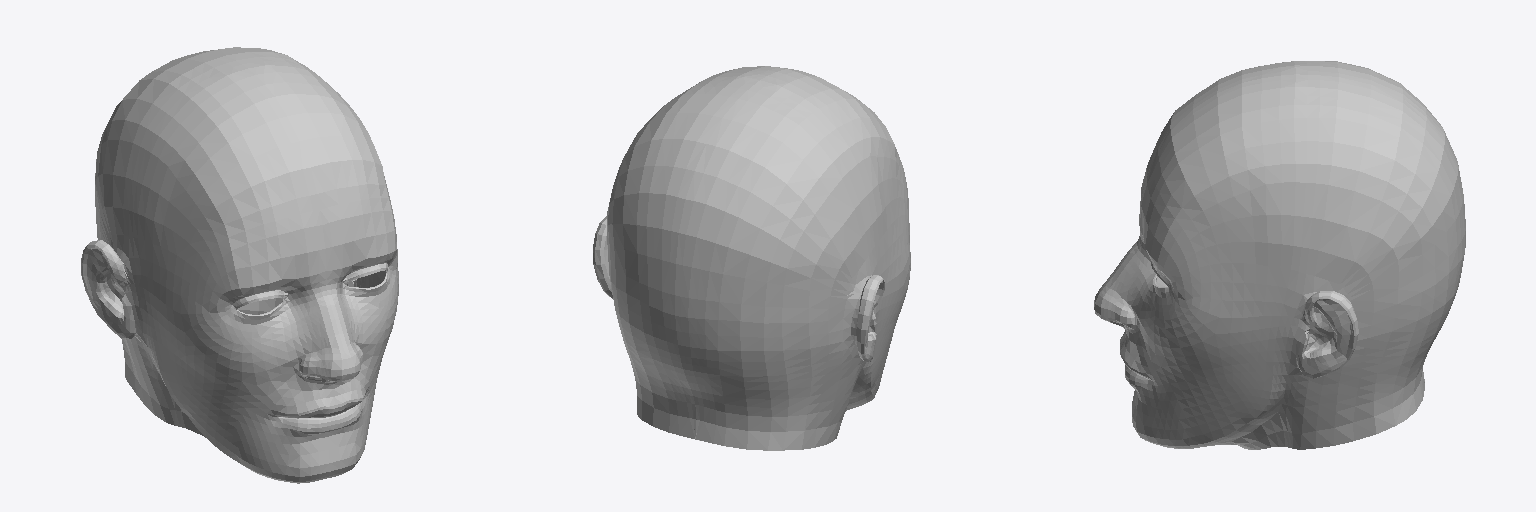
The model's file is male_head_triangles.obj.
The picture shows the model from 3 angles: view 1: azimuth 30°, elevation 25°; view 2: azimuth 150°, elevation 25°; view 3: azimuth 270°, elevation 25°; orthographic projection.
Parts seen in each view (by area): view 1: object0; view 2: object0; view 3: object0.
Part boxes in pixels (left/top/right/bottom): object0: left=81, top=47, right=398, bottom=483; object0: left=593, top=66, right=910, bottom=450; object0: left=1094, top=61, right=1465, bottom=449.
Size of the model in its own units: 30.6 by 38.16 by 35.42.